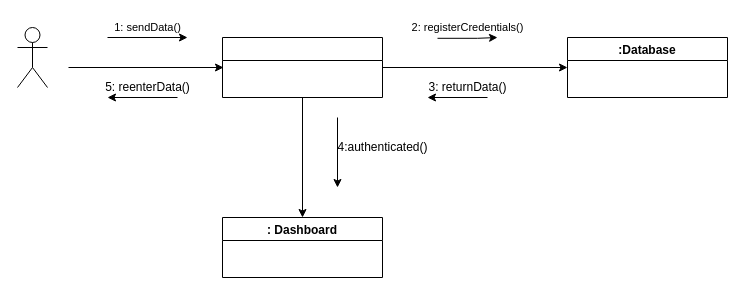
Some shapes in this 745 by 295 pixel diagram are drawn without their labels. Each missing label, with the centre of its shape:
:Server: pixel 302 67
User: pixel 32 57
